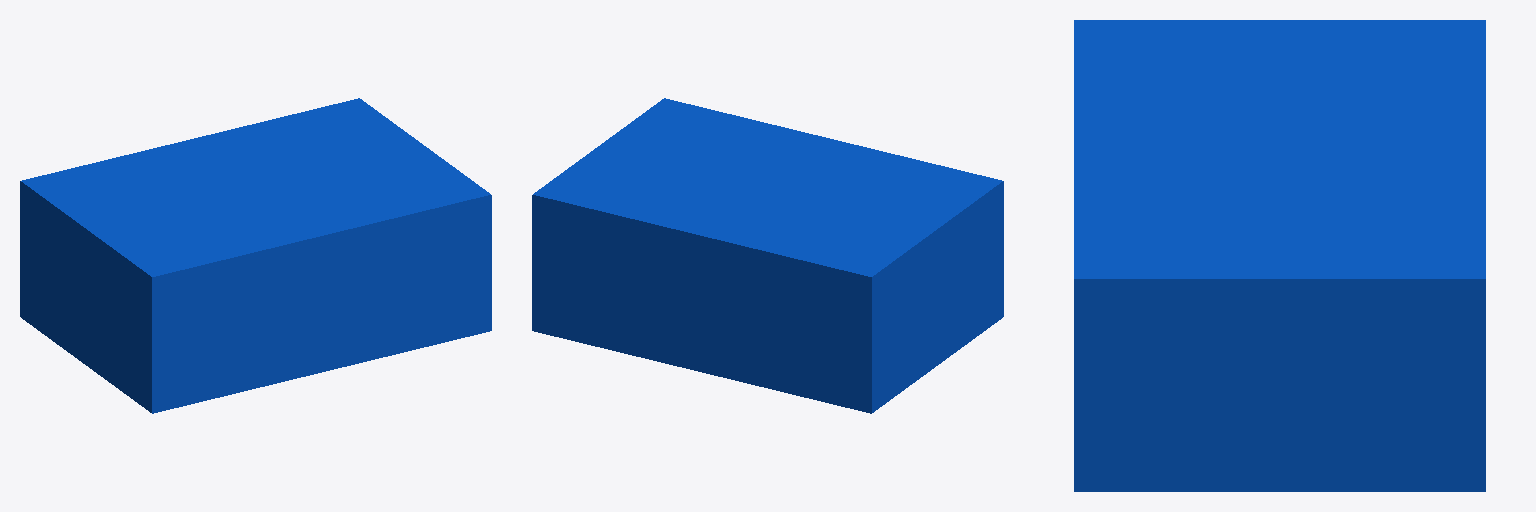
URDF robot description (m2_sim):
<?xml version="1.0"?>
<robot name="m2_sim">
  <link name="base_link">
    <inertial>
      <origin xyz="0 0 0.20"/>
      <mass value="80.0"/>
      <inertia ixx="6.0" ixy="0" ixz="0" iyy="10.0" iyz="0" izz="12.0"/>
    </inertial>
    <visual>
      <origin xyz="0 0 0.20"/>
      <geometry><box size="1.04 0.70 0.40"/></geometry>
      <material name="cleaner_blue"><color rgba="0.08 0.42 0.85 1"/></material>
    </visual>
    <collision>
      <origin xyz="0 0 0.20"/>
      <geometry><box size="1.04 0.70 0.40"/></geometry>
    </collision>
  </link>
  <gazebo reference="base_link">
    <gravity>false</gravity>
    <selfCollide>false</selfCollide>
    <kinematic>true</kinematic>
  </gazebo>
</robot>

--- Render facts (derived) ---
Views: 3 orthographic renders of the robot side by side, from view 1: azimuth 30°, elevation 25°; view 2: azimuth 150°, elevation 25°; view 3: azimuth 270°, elevation 25°.
Model m2_sim with 1 links and 0 joints (none), rooted at base_link, posed every joint at zero.
Links seen in each view (by area): view 1: base_link; view 2: base_link; view 3: base_link.
Boxes of the visible links, x1,y1,x2,y2 form: base_link: (20, 98, 491, 413); base_link: (532, 98, 1003, 413); base_link: (1074, 20, 1485, 491).
Size in the robot's own frame: 1.04 by 0.7 by 0.4 metres.
Geometry: primitives only (box / cylinder / sphere), no mesh files.
